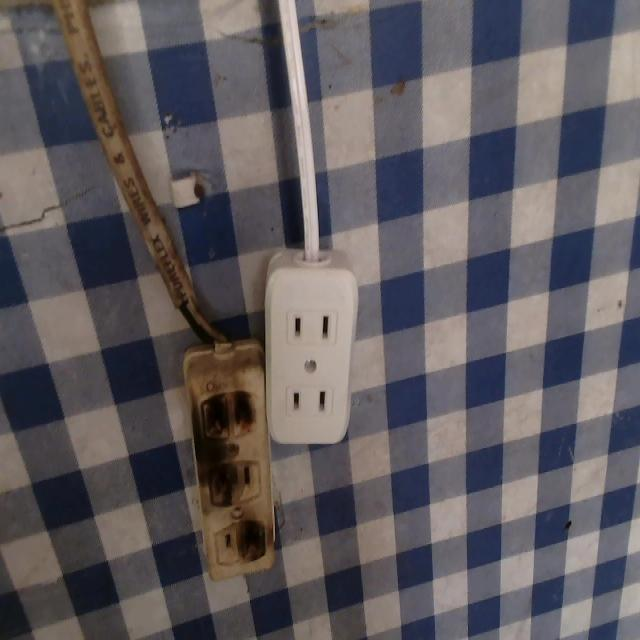-: (193, 384, 264, 445), (232, 508, 279, 564), (195, 457, 237, 515)
